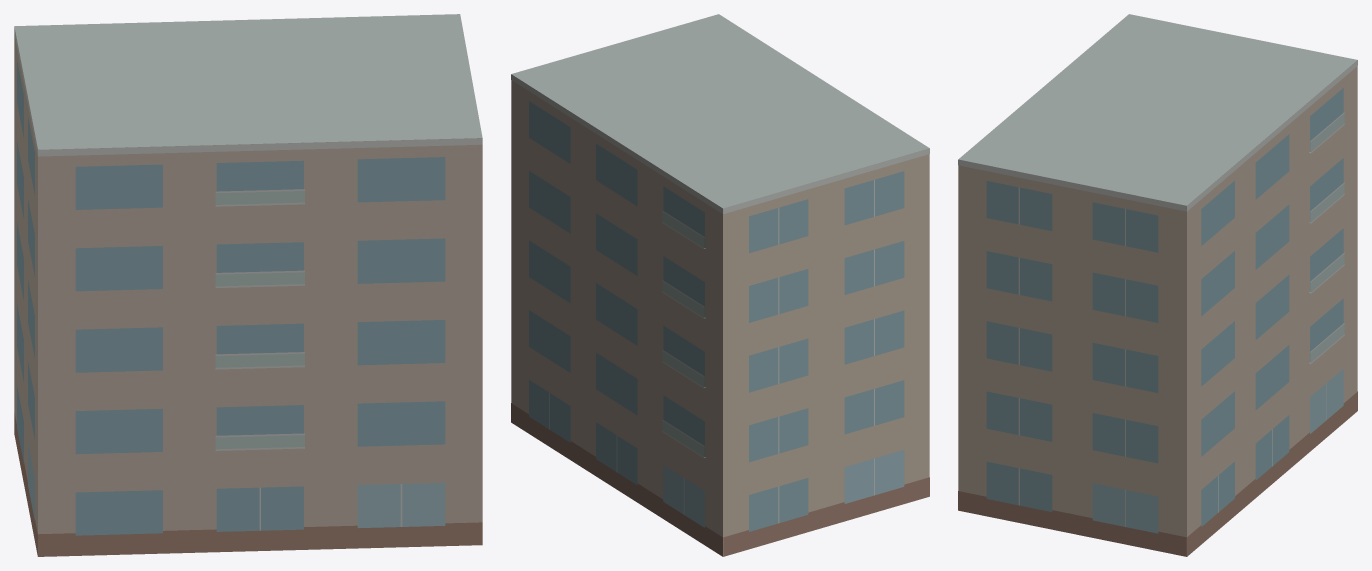
The model's file is survey-upis-32887583.glb.
3 views of the same model, side by side, from view 1: azimuth 30°, elevation 25°; view 2: azimuth 150°, elevation 25°; view 3: azimuth 270°, elevation 25° (orthographic). The views are drawn at different scales.
Parts seen in each view (by area): view 1: survey-upis-32887583.tmp; view 2: survey-upis-32887583.tmp; view 3: survey-upis-32887583.tmp.
Part boxes in pixels (box(x1,y1,x2,y2)): survey-upis-32887583.tmp: box(14, 14, 482, 556); survey-upis-32887583.tmp: box(511, 14, 929, 556); survey-upis-32887583.tmp: box(958, 14, 1357, 556).
Size of the model in its own units: 17.23 by 14.7 by 15.17.
